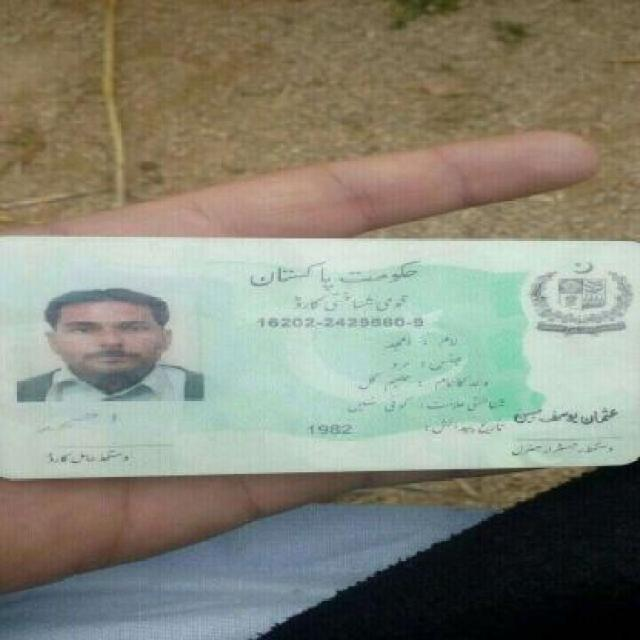Front: (4, 226, 636, 479)
